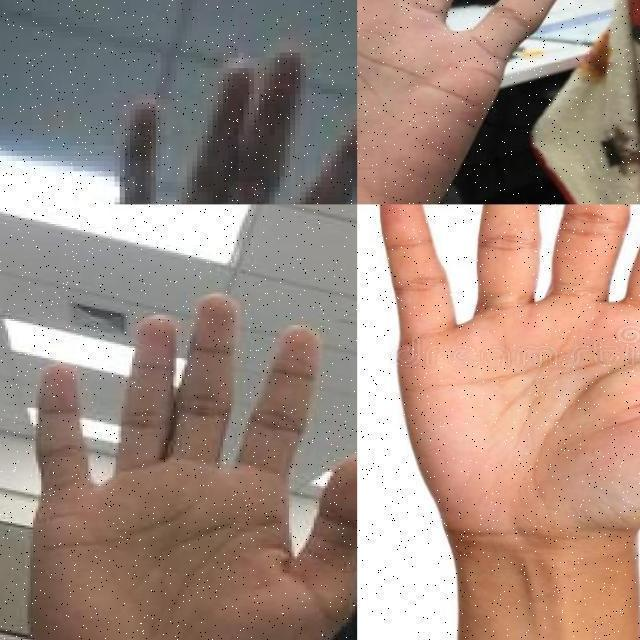hand: (27, 294, 357, 640), (377, 204, 640, 546), (357, 0, 636, 204), (68, 42, 357, 204)
